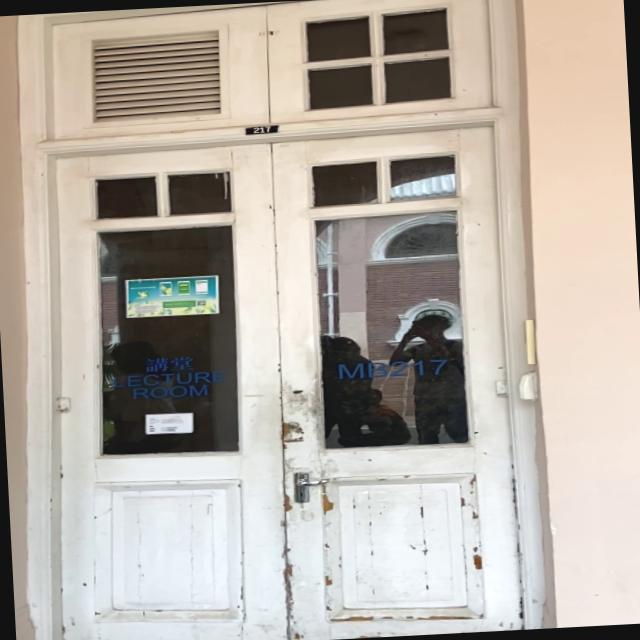room217: (244, 124, 282, 136)
room217Window: (331, 355, 452, 384)
